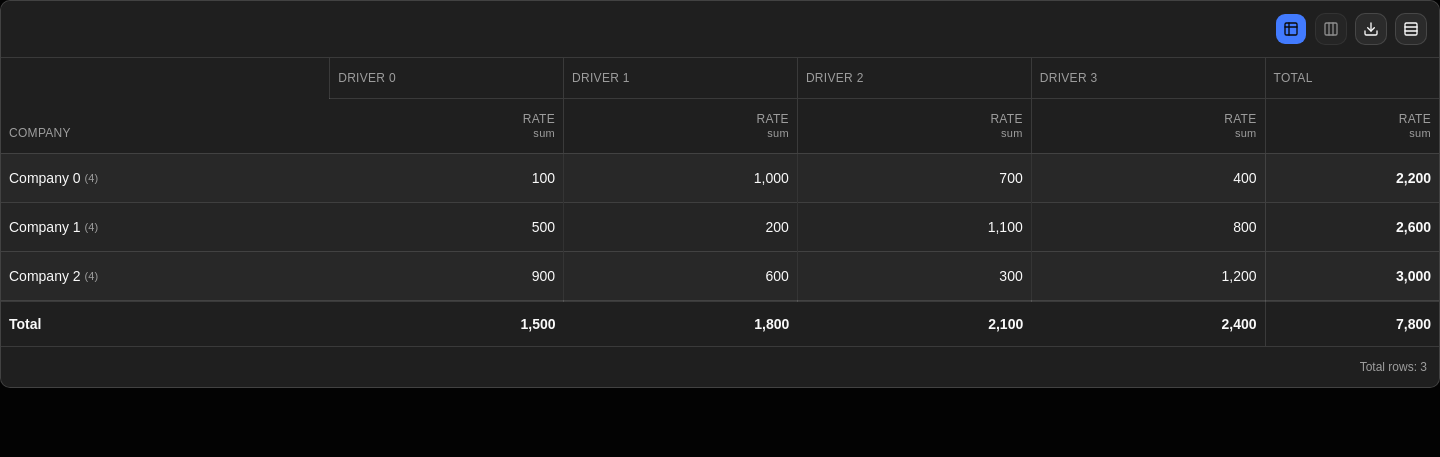
Scenario: the panel says what each control governs › keeps settings out of the inline field list entirely
What coordinates should you click on to do the following:
click the button named "Pivot"
I would click on:
 (1291, 29)
Its box is [1275,13,1307,45].
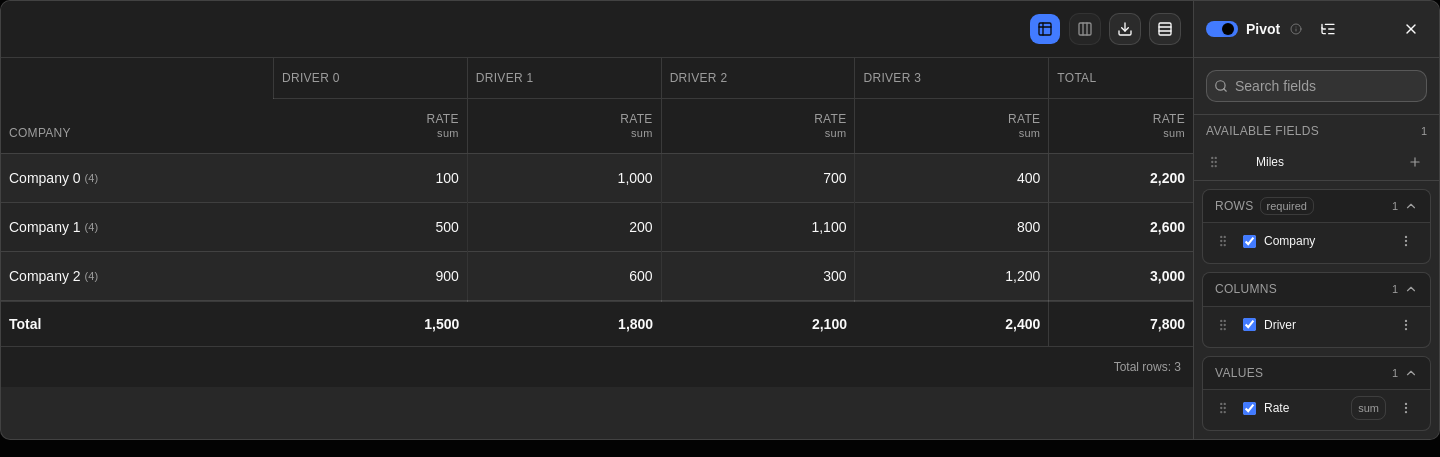
Result: the checkbox named "Include Company" is shown at [1243,234,1256,248]
